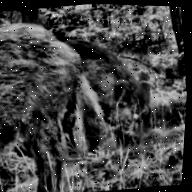boar: (0, 7, 106, 192), (57, 15, 169, 151)
